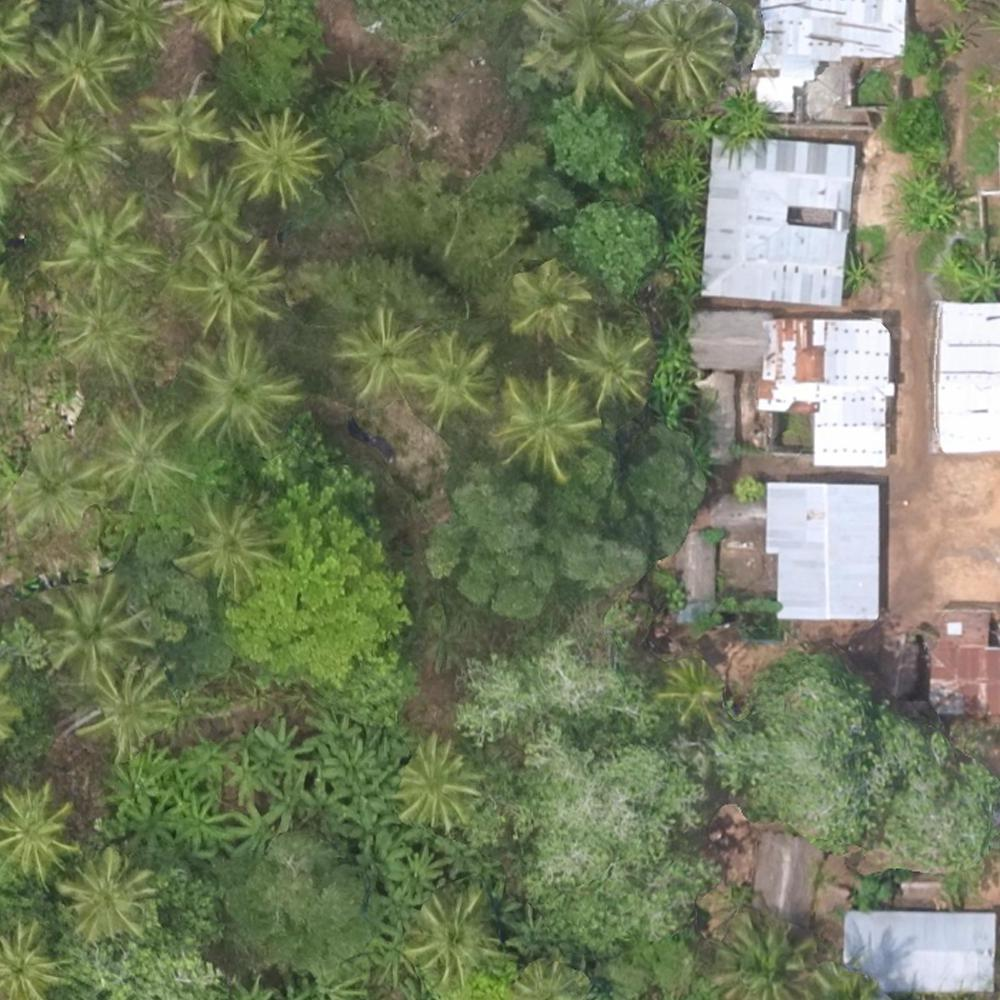Palm: (185, 331, 301, 442), (526, 5, 638, 109), (95, 404, 200, 512), (493, 374, 601, 478), (176, 493, 284, 591), (170, 241, 286, 332), (43, 580, 147, 681), (51, 197, 158, 292), (629, 4, 737, 98), (34, 13, 132, 112), (54, 285, 155, 376), (15, 436, 107, 534), (79, 662, 180, 751), (227, 112, 322, 204), (132, 85, 226, 177), (410, 888, 501, 981), (60, 850, 148, 942), (338, 306, 425, 398), (3, 782, 82, 881), (34, 110, 127, 193), (718, 921, 815, 997), (166, 166, 252, 249), (412, 333, 491, 423), (401, 742, 482, 825), (569, 321, 646, 402), (1, 917, 77, 998), (509, 261, 586, 339), (659, 657, 724, 721)
